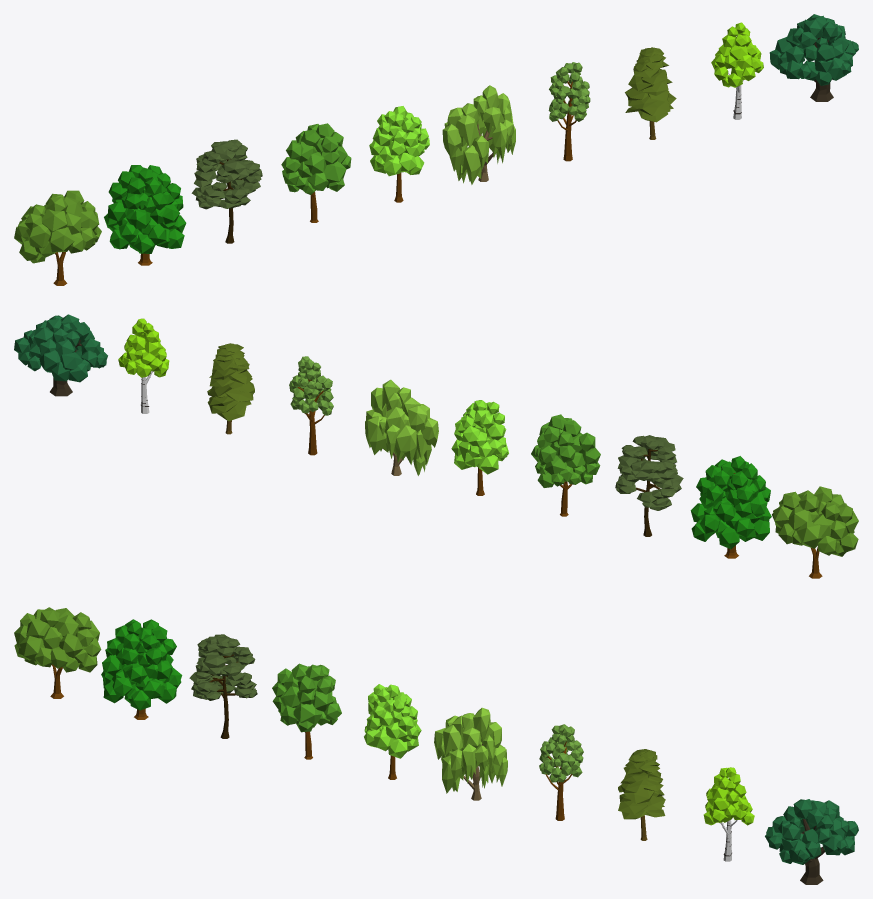
Rendered from Trees.fbx.
3 renders of one model, top to bottom at view 1: azimuth 30°, elevation 25°; view 2: azimuth 150°, elevation 25°; view 3: azimuth 330°, elevation 25°, orthographic.
Visible parts, largest first — view 1: Chesnut, Willow, Elm, Oak, Maple, Pine, Poplar, Cedar, Birch, Lindon; view 2: Chesnut, Elm, Willow, Oak, Maple, Pine, Poplar, Cedar, Birch, Lindon; view 3: Chesnut, Oak, Elm, Willow, Maple, Pine, Poplar, Cedar, Birch, Lindon.
Boxes of the visible parts, x1,y1,x2,y2 form: Chesnut: (104,165,186,265); Willow: (442,85,515,184); Elm: (14,190,101,285); Oak: (769,14,858,101); Maple: (281,123,351,222); Pine: (191,139,262,243); Poplar: (369,106,429,202); Cedar: (625,47,676,139); Birch: (711,22,763,119); Lindon: (548,62,590,161); Chesnut: (690,456,771,558); Elm: (772,486,858,578); Willow: (365,379,438,475); Oak: (14,314,107,396); Maple: (531,414,600,516); Pine: (615,435,683,536); Poplar: (451,400,508,495); Cedar: (207,343,254,434); Birch: (118,318,169,413); Lindon: (289,356,333,455); Chesnut: (101,619,182,719); Oak: (765,799,858,884); Elm: (14,607,101,698); Willow: (434,707,507,800); Maple: (272,663,341,759); Pine: (189,634,257,738); Poplar: (364,684,421,779); Cedar: (618,749,665,840); Birch: (703,767,754,861); Lindon: (539,724,583,820).
Size of the model in its own units: 3961 by 450 by 361.
